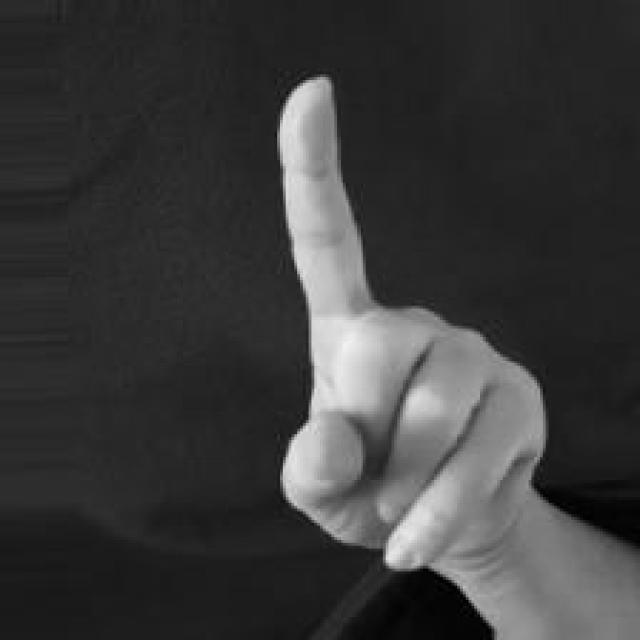I: (267, 61, 552, 589)
